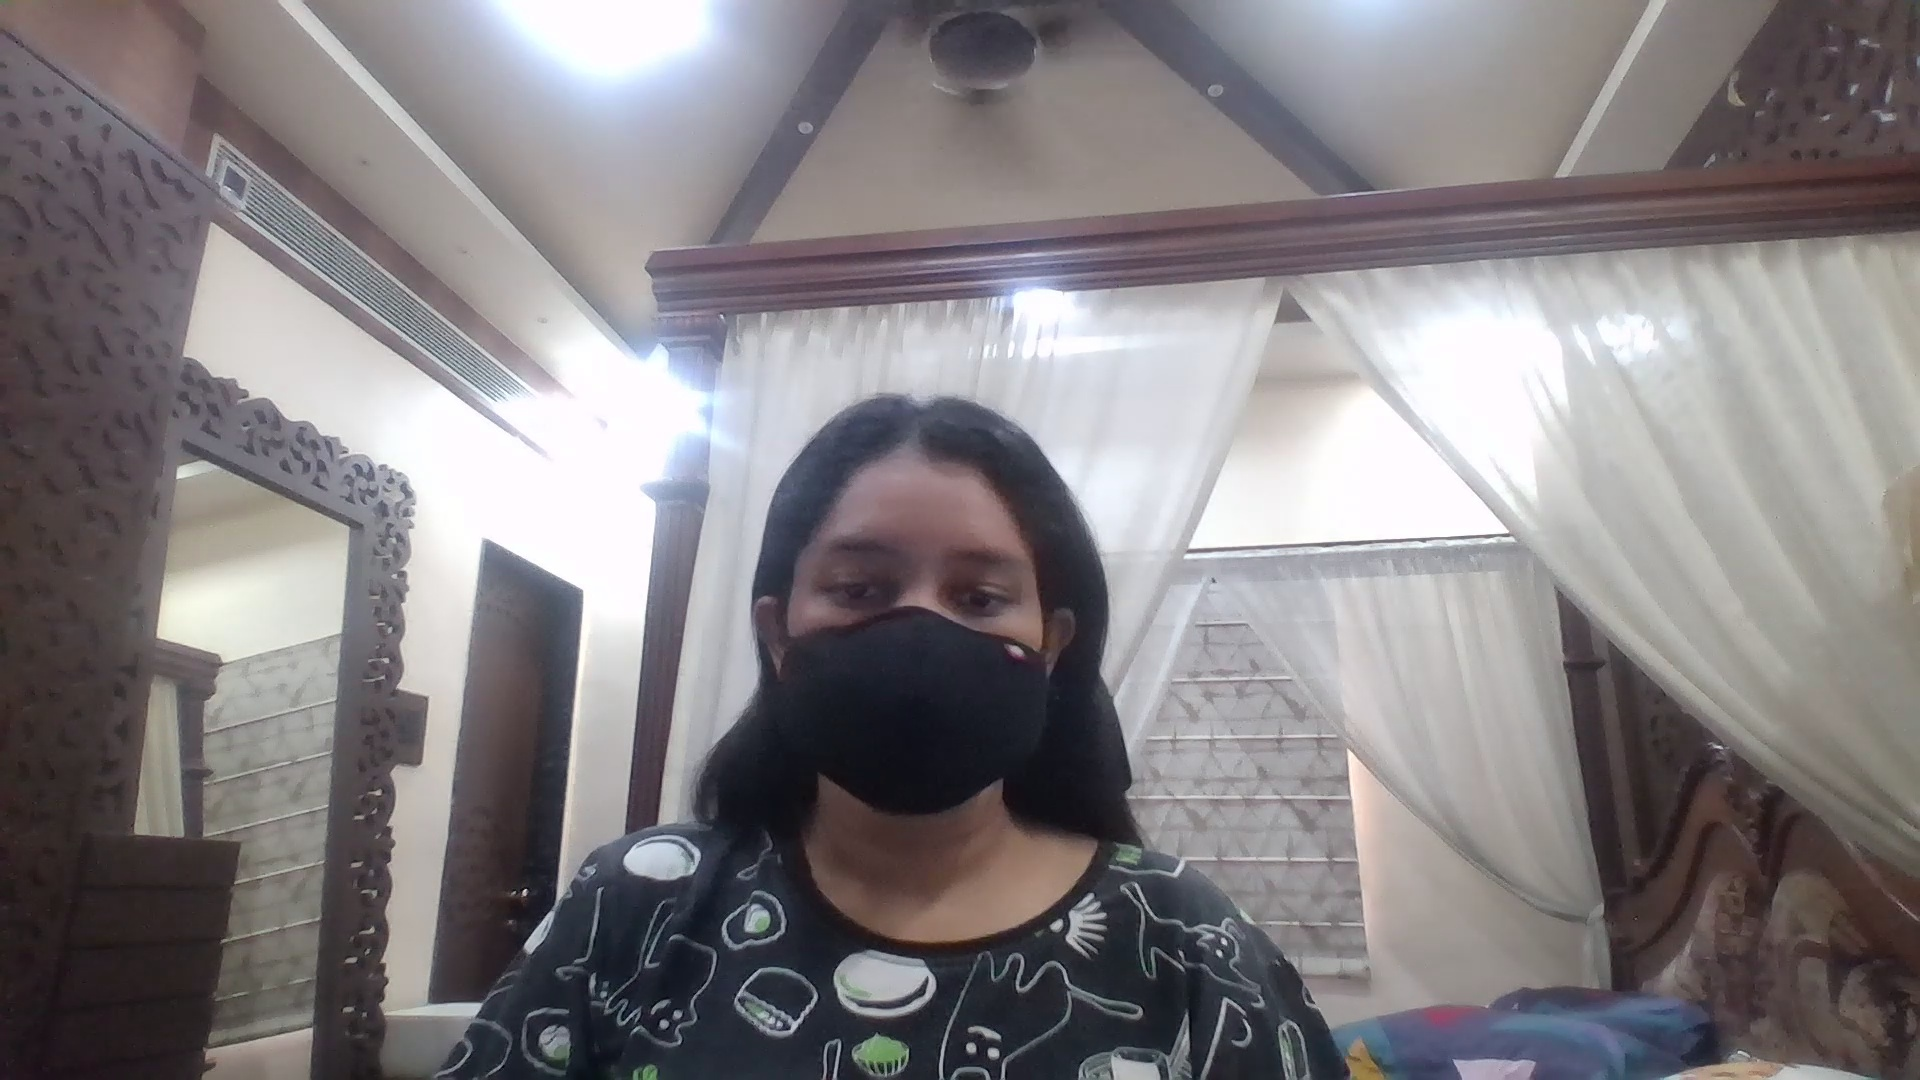Mask: (788, 625, 1063, 829)
